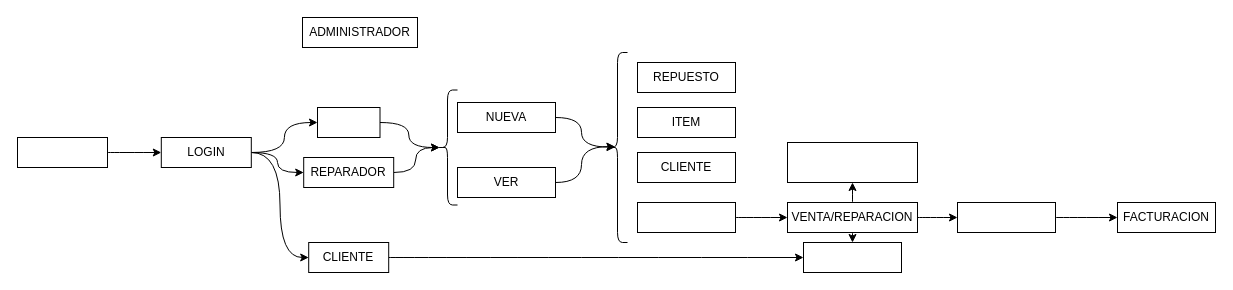
This 1233x290 diagram has some shape labels left out. Each missing label, with the centre of its shape:
"AGREGAR REPUESTO/ITEM" goes at (852,162).
"JEFE" goes at (348,122).
"TERMINAR" goes at (1006,217).
"TRANSACCION" goes at (686,217).
"VER ESTADO REPARACION" goes at (852,257).
"WEB PUBLICA" goes at (62,152).
